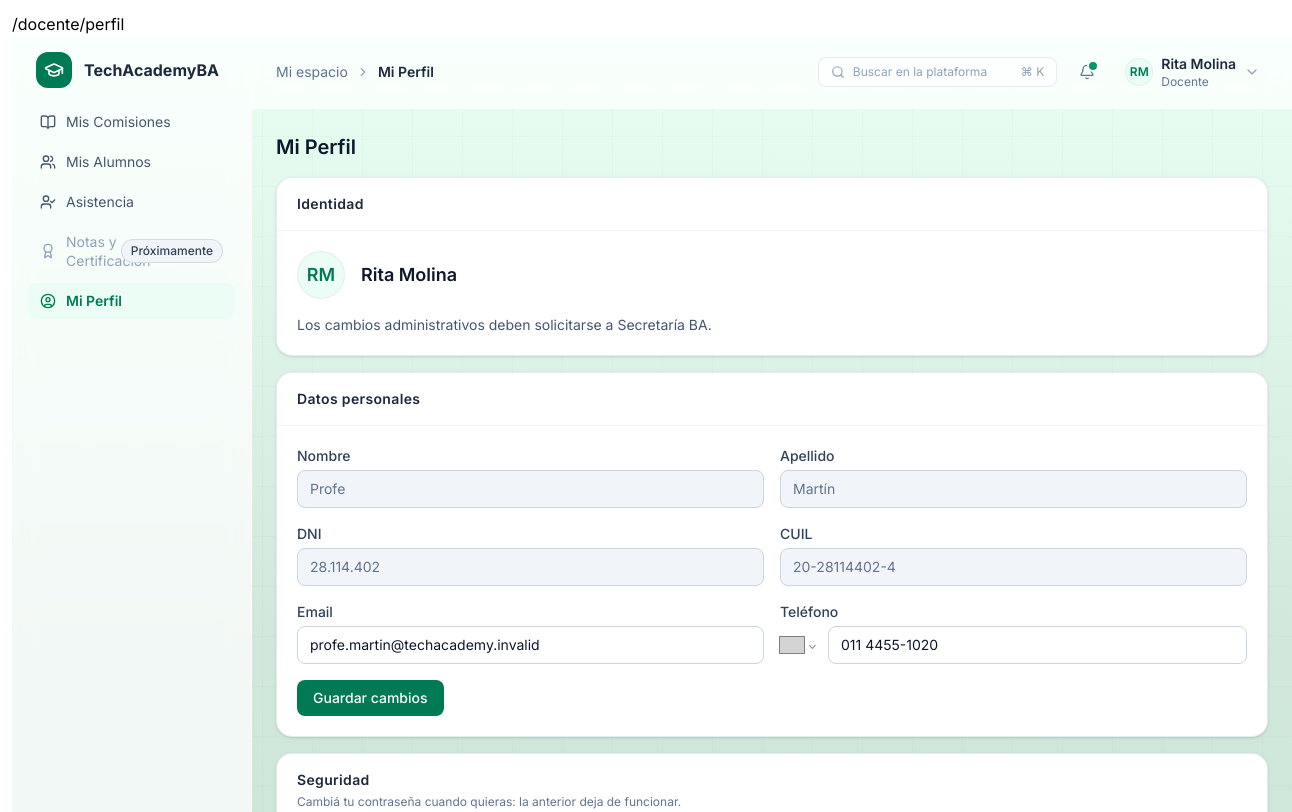
it: datos personales › deja editar el email y el teléfono y confirma el guardado
The image size is (1292, 812).
Expected: the heading "Mi Perfil" is shown, [276,135,356,159]
Expected: the field labelled "Teléfono" is enabled, [828,626,1247,664]
Replace the text in the field labelled "Email" with "profe.martin.nuevo@techacademy.invalid" at (530, 645), box [297,626,764,664]
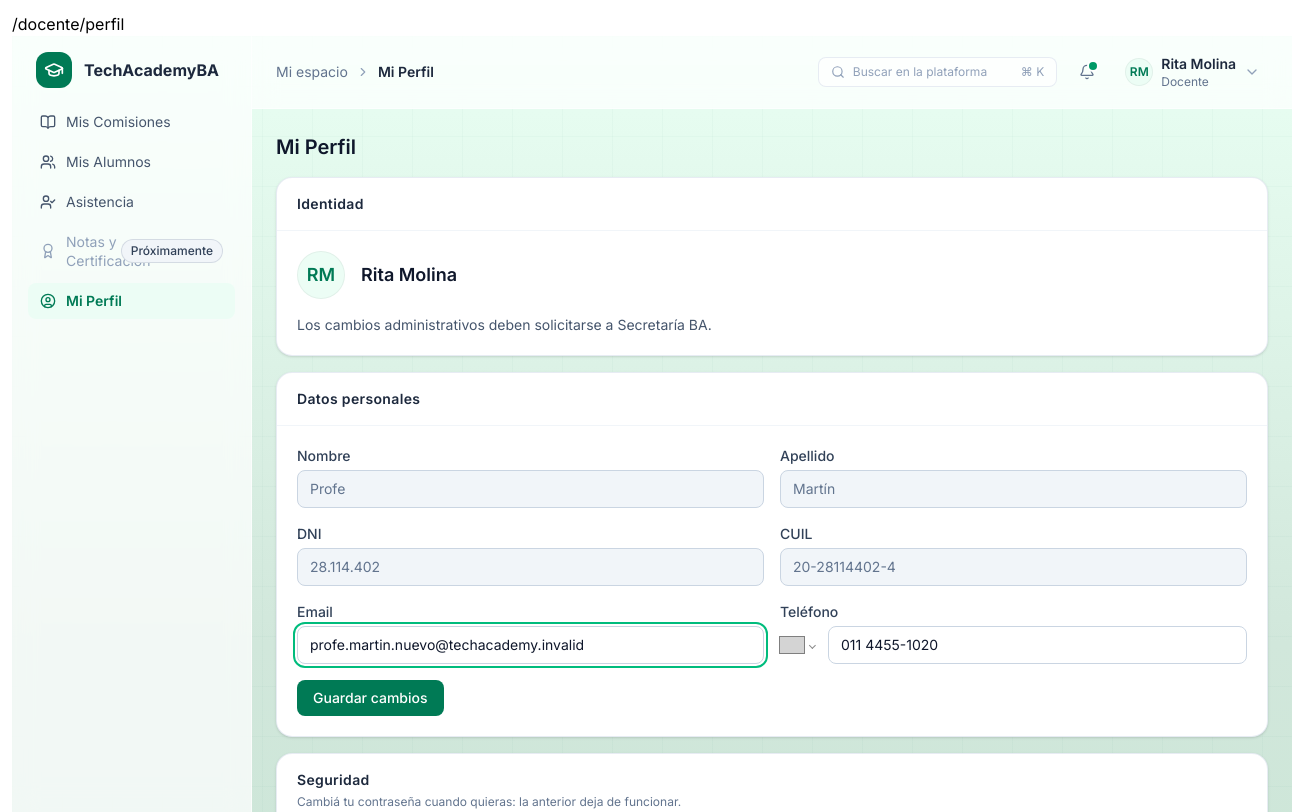
Replace the text in the field labelled "Teléfono" with "+5491140000099" at (1038, 645), box [828,626,1247,664]
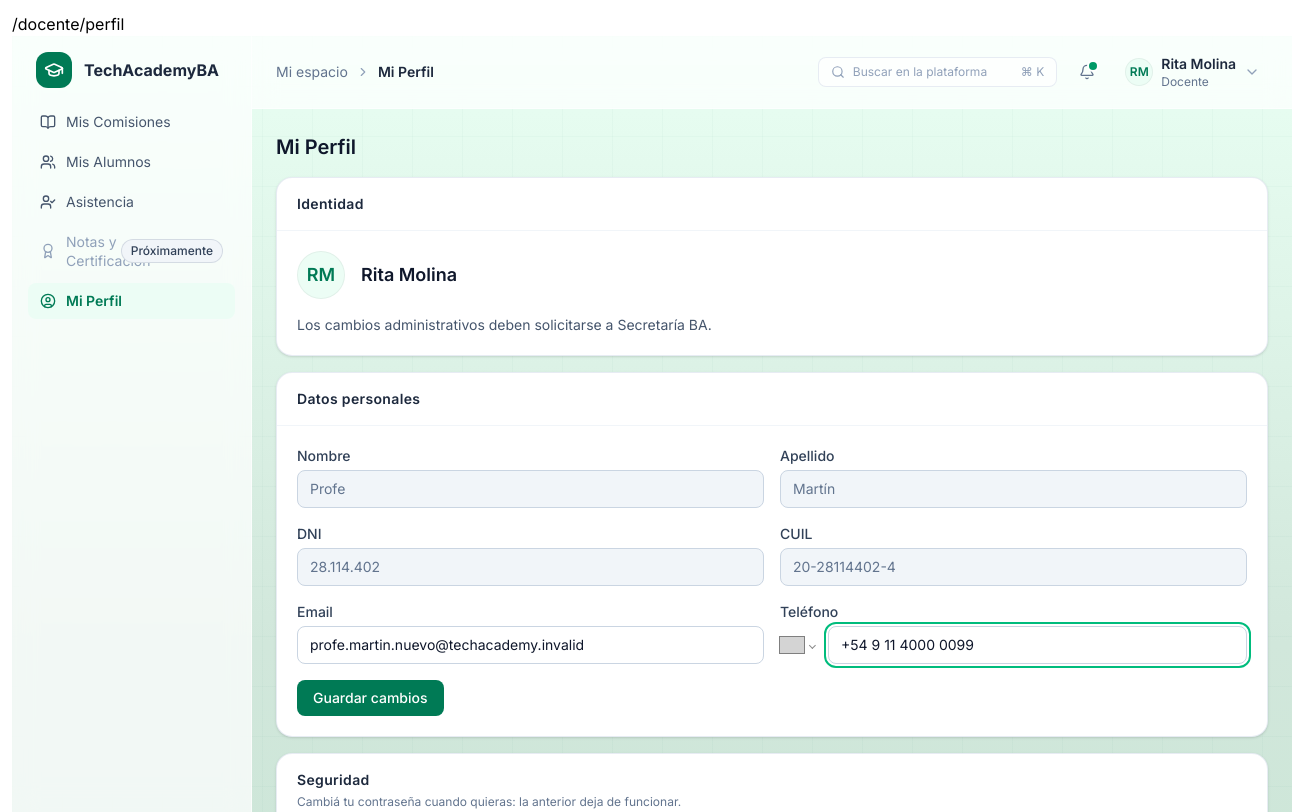
Click the button "Guardar cambios".
click(370, 698)  # box [297,680,444,716]
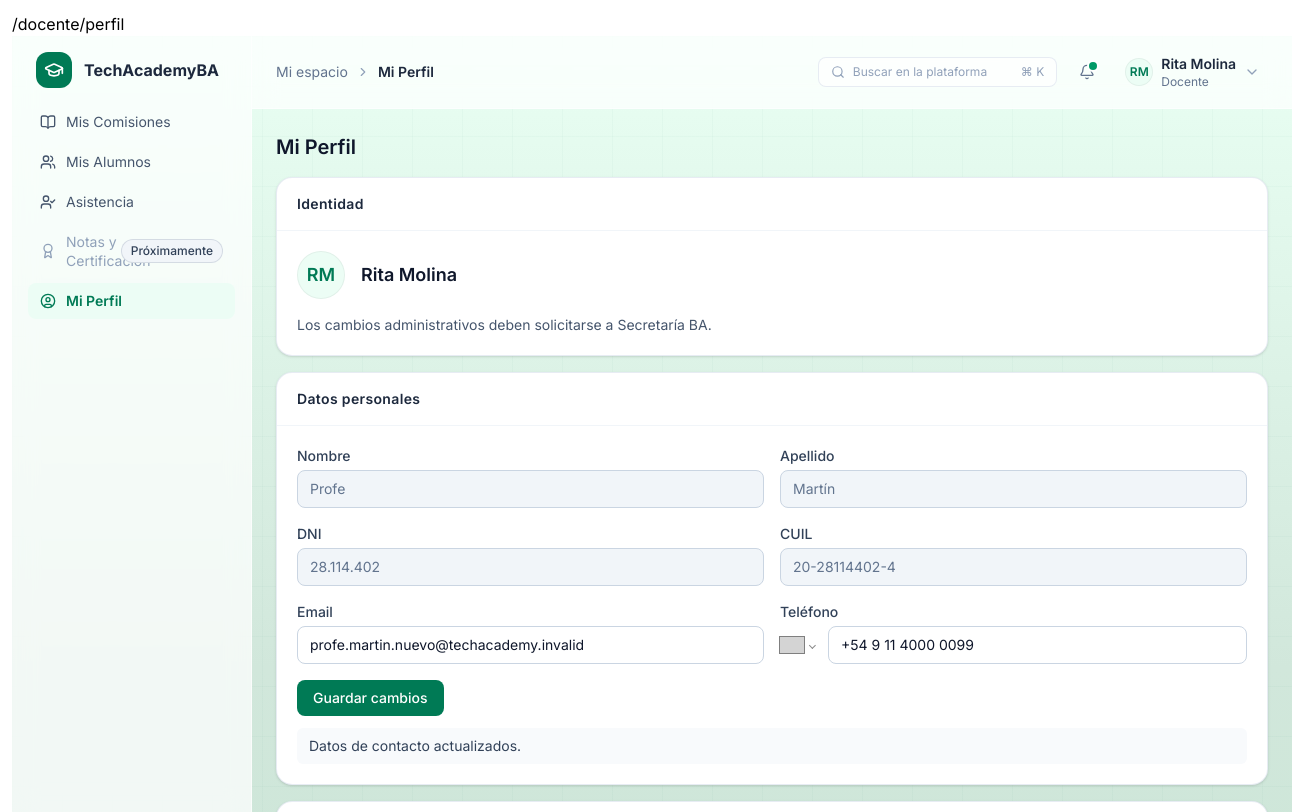
Result: the message reads "Datos de contacto actualizados." at [309,737,521,754]
